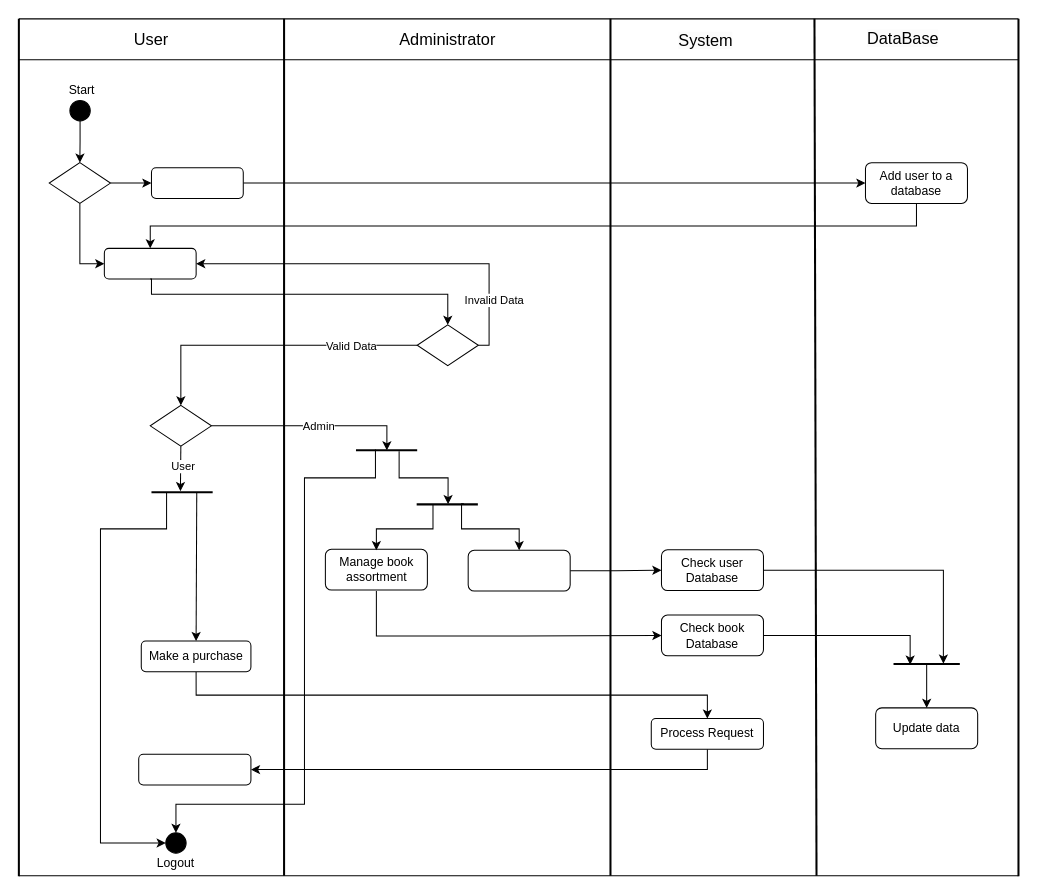
The diagram is 1037 pixels wide and 896 high, and some of its shapes have lost their labels. Each missing label, with the centre of its shape:
"Login" belongs at point 149,263.
"Manage user accounts" belongs at point 518,570.
"Print a bill" belongs at point 194,769.
"Sign Up" belongs at point 196,182.
